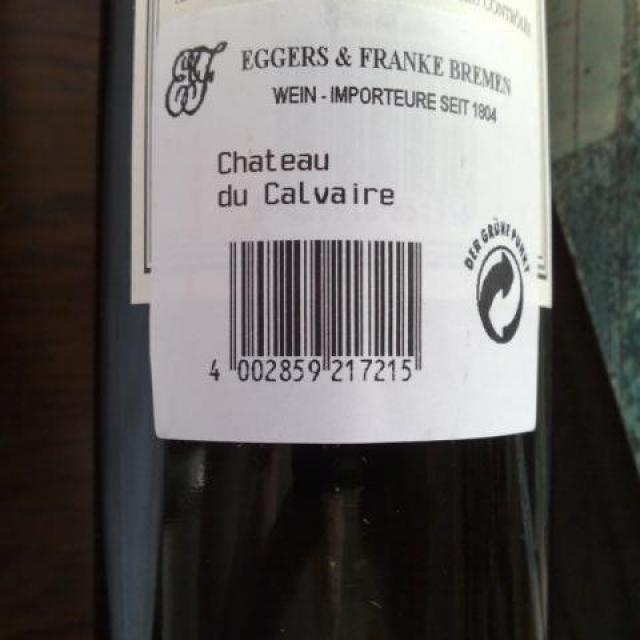Barcode: (194, 221, 453, 415)
